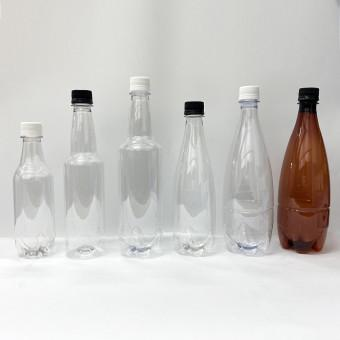bottle: (296, 87, 316, 253), (241, 85, 255, 256), (133, 77, 143, 258), (188, 101, 197, 257), (80, 85, 87, 256), (29, 122, 36, 258)
